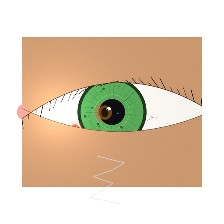foreign_body_visible: (81, 94, 129, 132)
